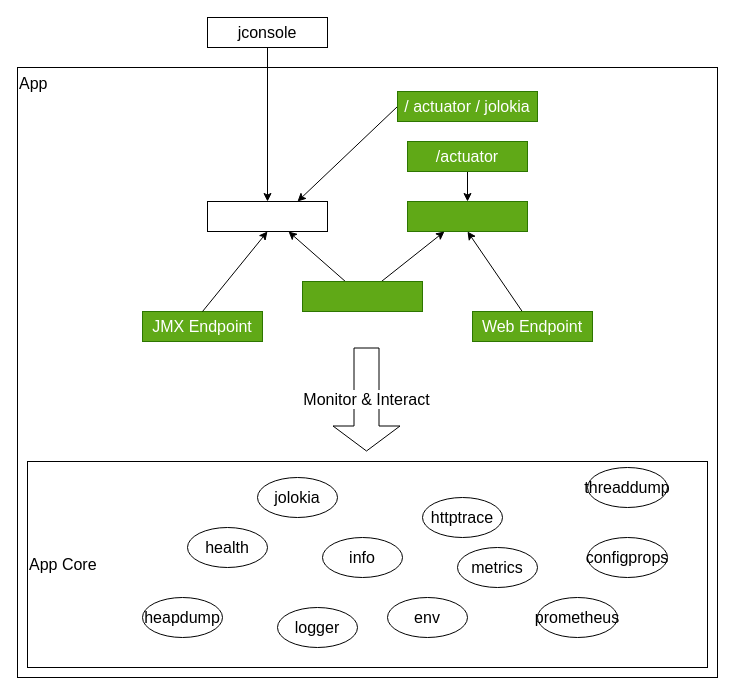
Some shapes in this 735 by 695 pixel diagram are drawn without their labels. The shapes that lost their labels are listed below. From the top down, each one's centre as x and y in pixels, then its label:
(x=267, y=216): JMX MBeans
(x=467, y=216): Web
(x=362, y=296): Endpoint
